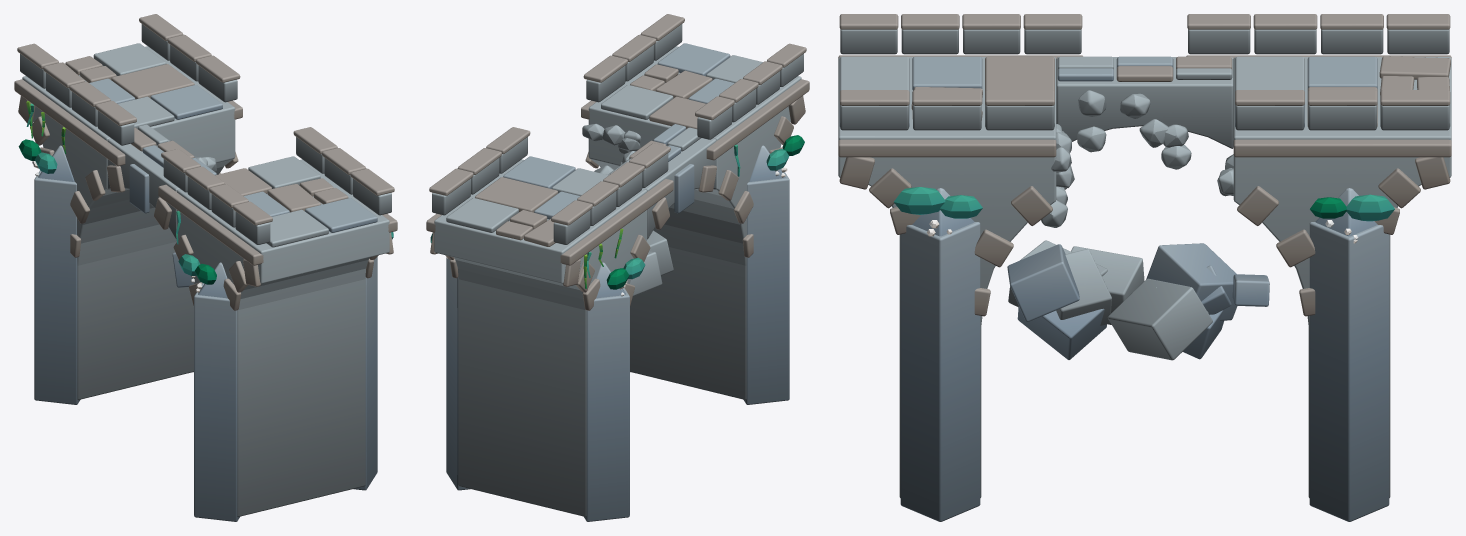
File: causeway_broken.glb
3 views of the same model, side by side, from view 1: azimuth 30°, elevation 25°; view 2: azimuth 150°, elevation 25°; view 3: azimuth 270°, elevation 25° (orthographic). The views are drawn at different scales.
Visible parts, largest first — view 1: causeway_broken; view 2: causeway_broken; view 3: causeway_broken.
Boxes of the visible parts, bbox=[...] form: causeway_broken: bbox=[14, 14, 397, 521]; causeway_broken: bbox=[426, 14, 809, 521]; causeway_broken: bbox=[838, 14, 1451, 521].
Bounding box in the file's own units: 4.55 × 6.62 × 9.
1 material, 1 textured.
